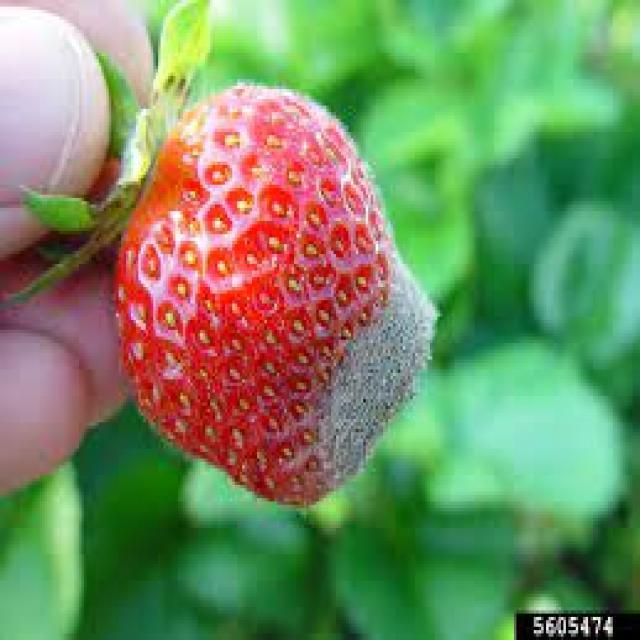Moho gris: (113, 64, 428, 504)
